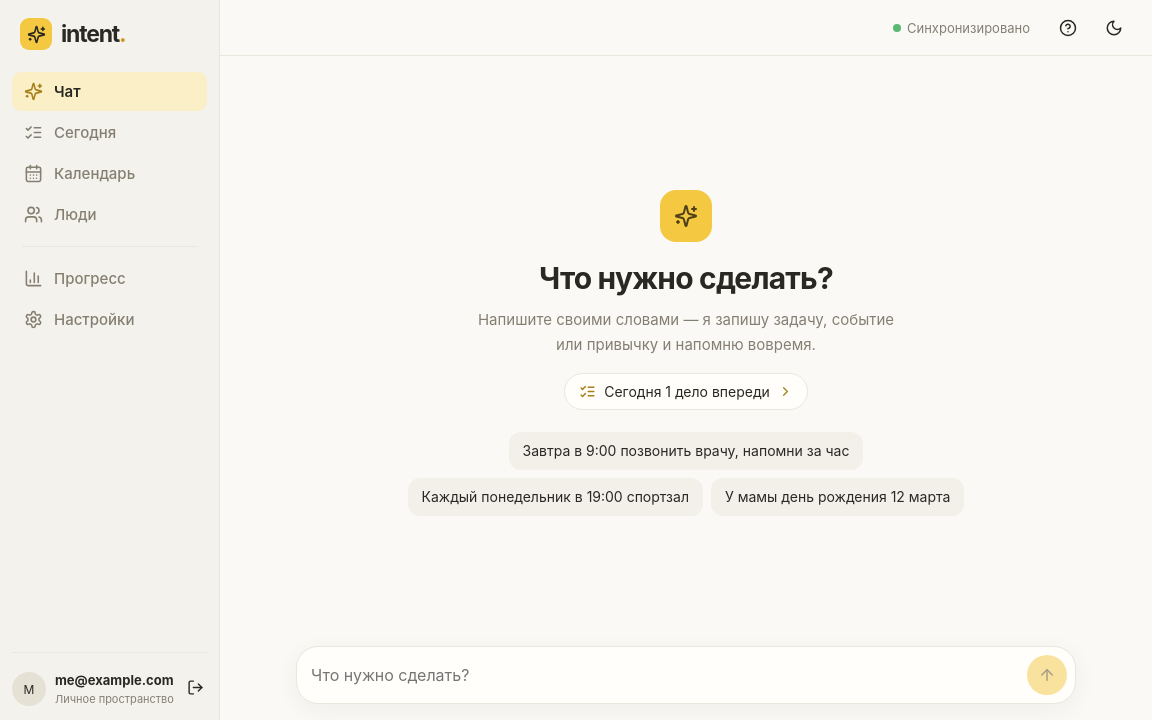
shows only populated day sections and completes tasks without opening their cards
What coordinates should you click on to do the following:
click the button "Сегодня"
I would click on:
 (110, 132)
Its box is [12,113,207,152].
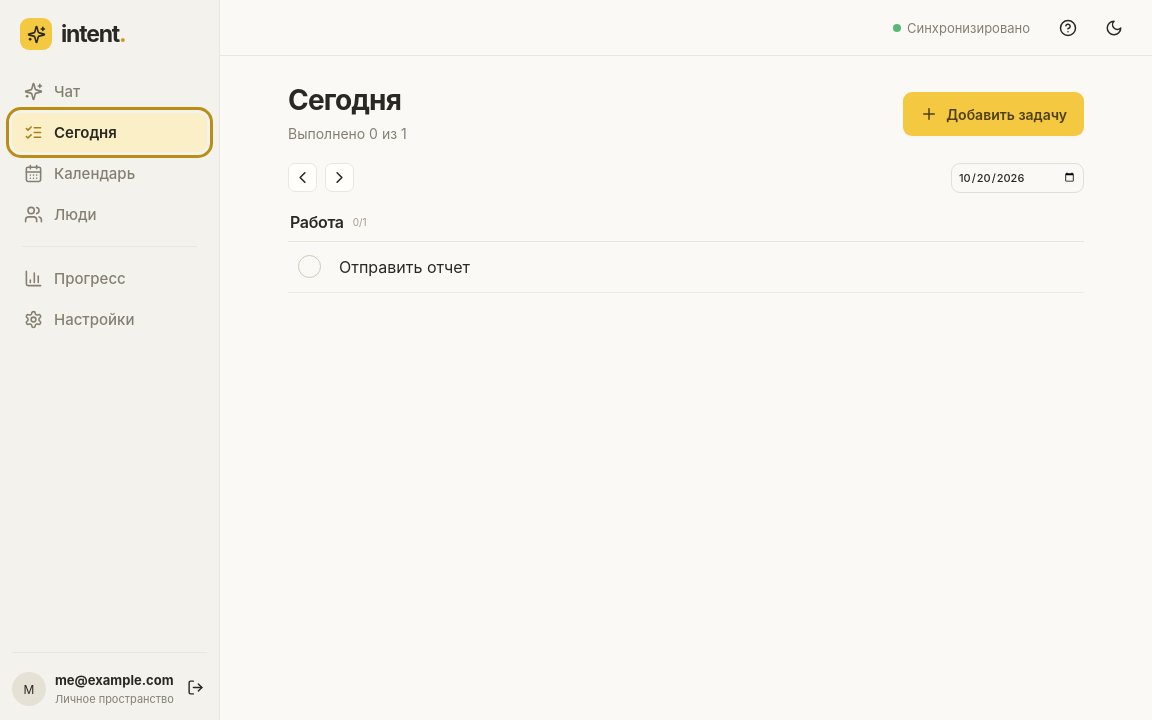
Now the heading "Работа" is shown, box [290,212,344,232]
What coordinates should you click on to do the following:
click the button named "Завершить: Отправить отчет"
I would click on:
 (309, 267)
Its box is [288,246,330,288].
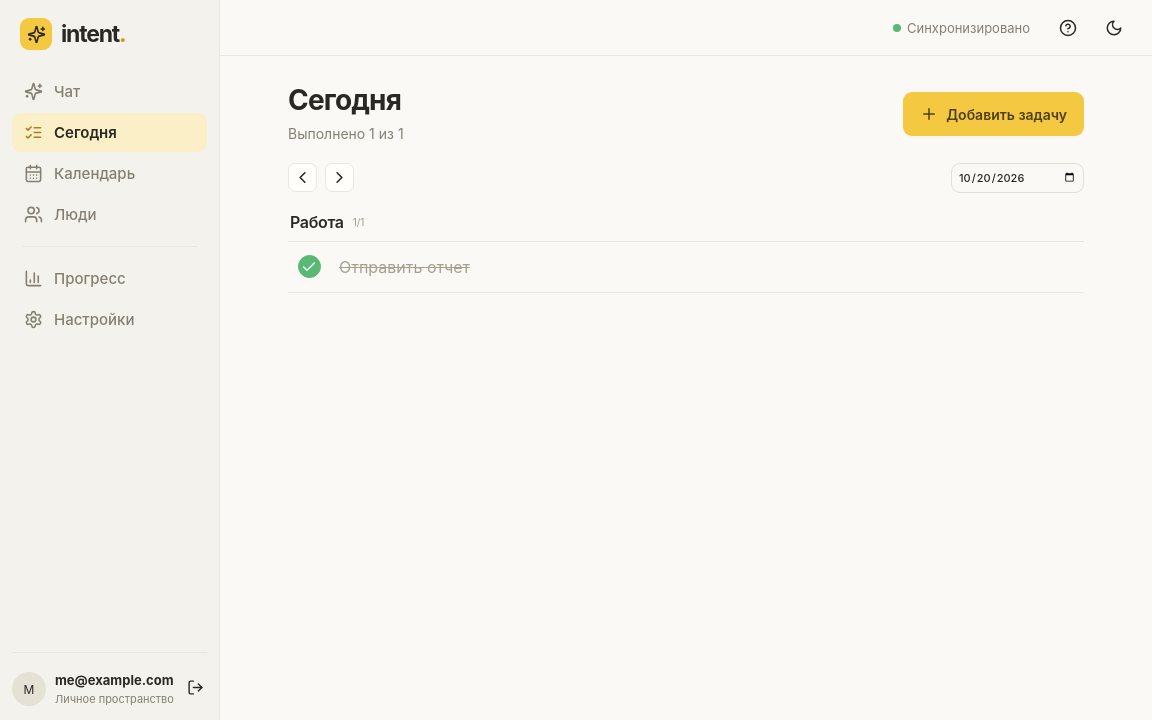
Now the button named "Возобновить: Отправить отчет" is enabled
What coordinates should you click on to do the following:
click the button named "Возобновить: Отправить отчет"
I would click on:
 (309, 267)
Its box is [288,246,330,288].
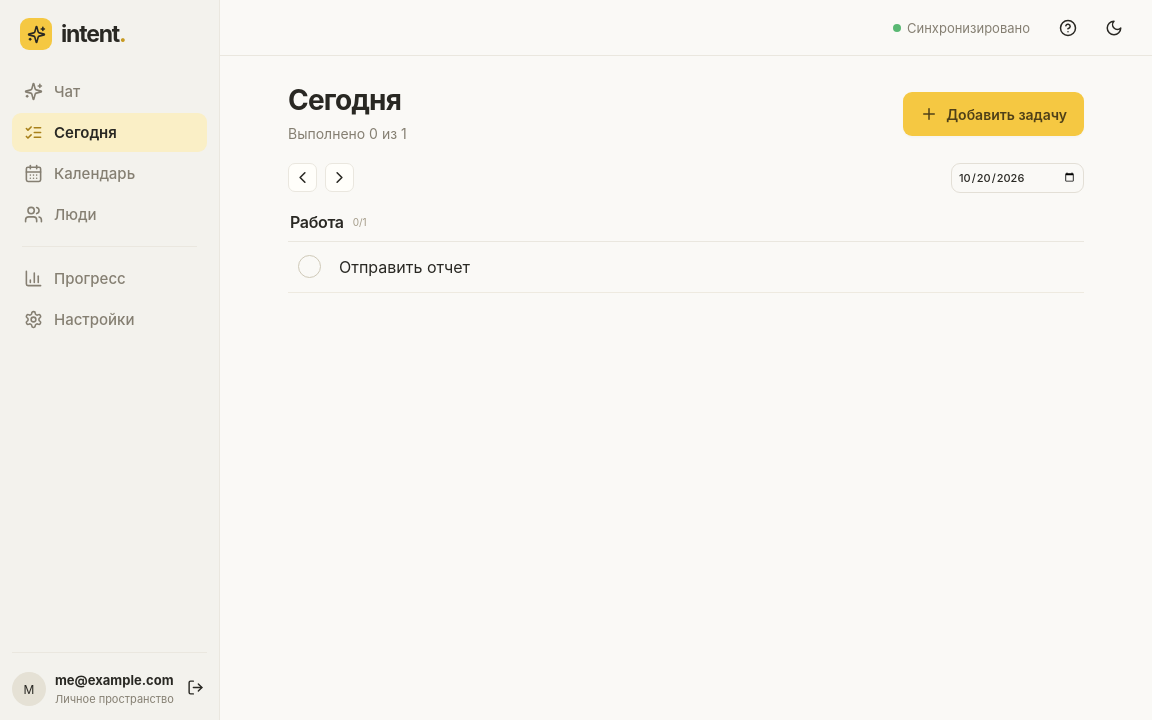
What coordinates should you click on to do the following:
click the button with aria-label "Открыть задачу: Отправить отчет"
I would click on:
 (404, 267)
Its box is [335,243,1084,291].
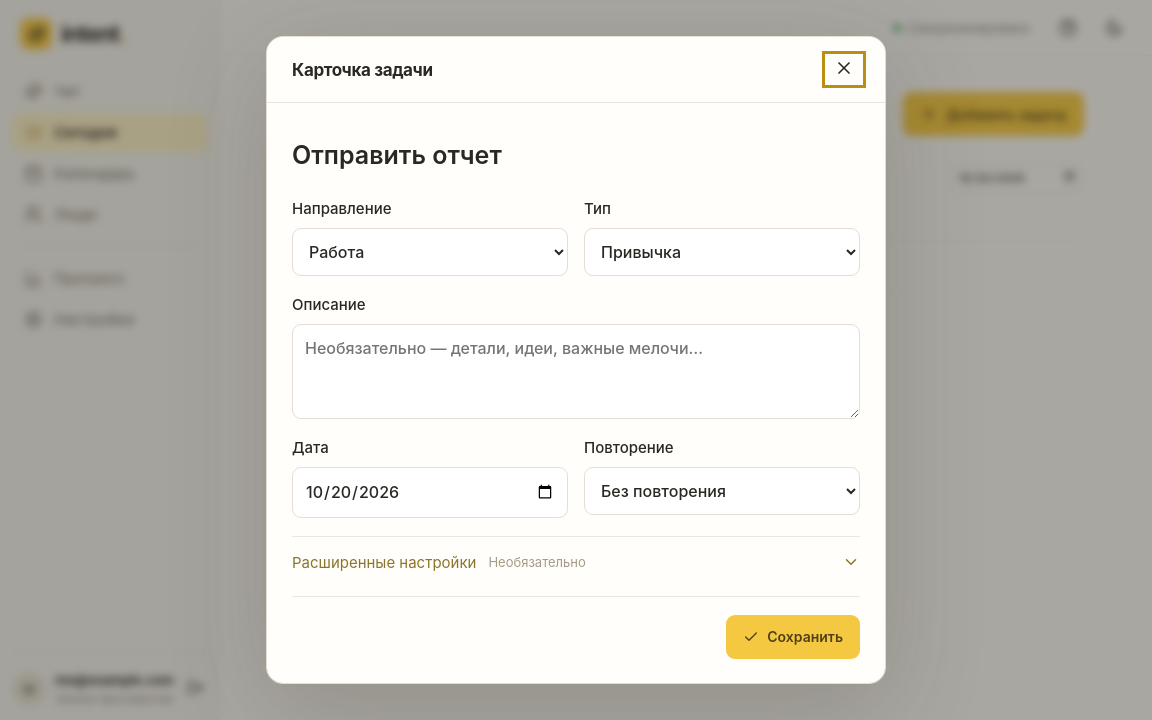
Now the dialog is shown, box [266,36,886,684]
